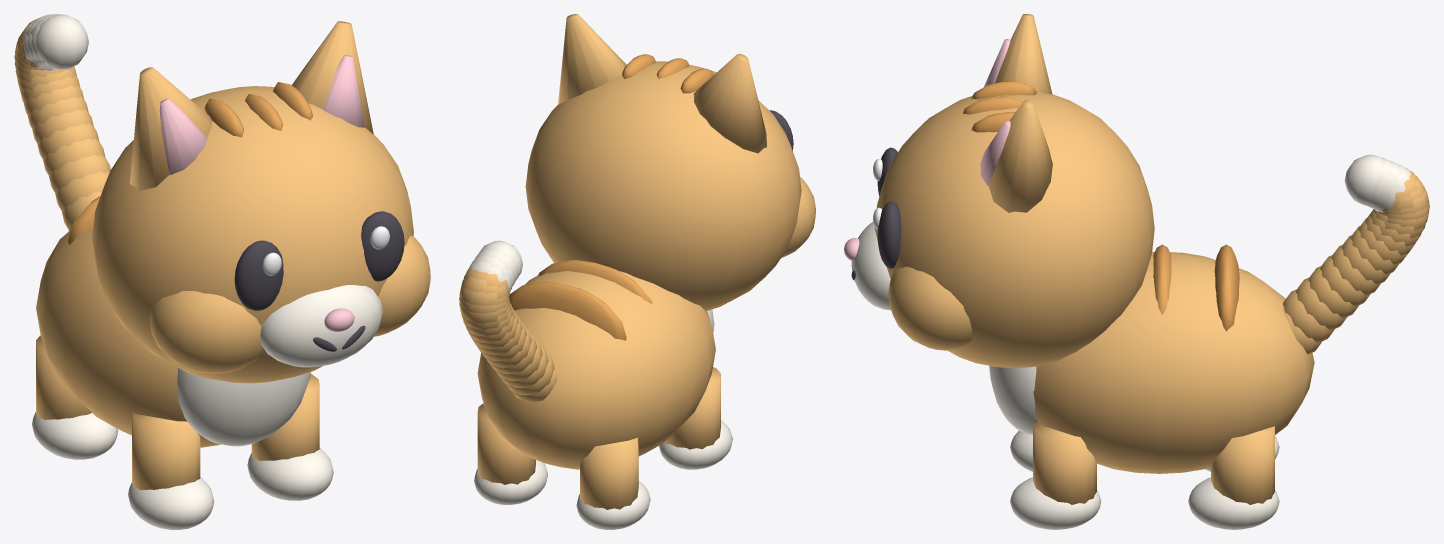
Rendered from hewan_kucing.fbx.
3 views of the same model, side by side, from view 1: azimuth 30°, elevation 25°; view 2: azimuth 150°, elevation 25°; view 3: azimuth 270°, elevation 25° (orthographic). The views are drawn at different scales.
Parts seen in each view (by area): view 1: CatBody, CatLight, CatDark, CatPink, CatStripe, CatWhite; view 2: CatBody, CatLight, CatStripe; view 3: CatBody, CatLight, CatStripe, CatDark, CatPink.
Part boxes in pixels (bbox=[...]): CatBody: bbox=[14, 21, 430, 490]; CatLight: bbox=[22, 14, 382, 529]; CatDark: bbox=[234, 211, 404, 351]; CatPink: bbox=[159, 55, 364, 331]; CatStripe: bbox=[68, 82, 312, 244]; CatWhite: bbox=[262, 226, 389, 275]; CatBody: bbox=[459, 14, 815, 509]; CatLight: bbox=[466, 240, 732, 529]; CatStripe: bbox=[509, 54, 713, 340]; CatBody: bbox=[874, 14, 1429, 504]; CatLight: bbox=[851, 154, 1411, 529]; CatStripe: bbox=[962, 81, 1239, 331]; CatDark: bbox=[851, 147, 901, 280]; CatPink: bbox=[844, 39, 1010, 260].
Bounding box in the file's own units: 2 × 3.19 × 3.85.
